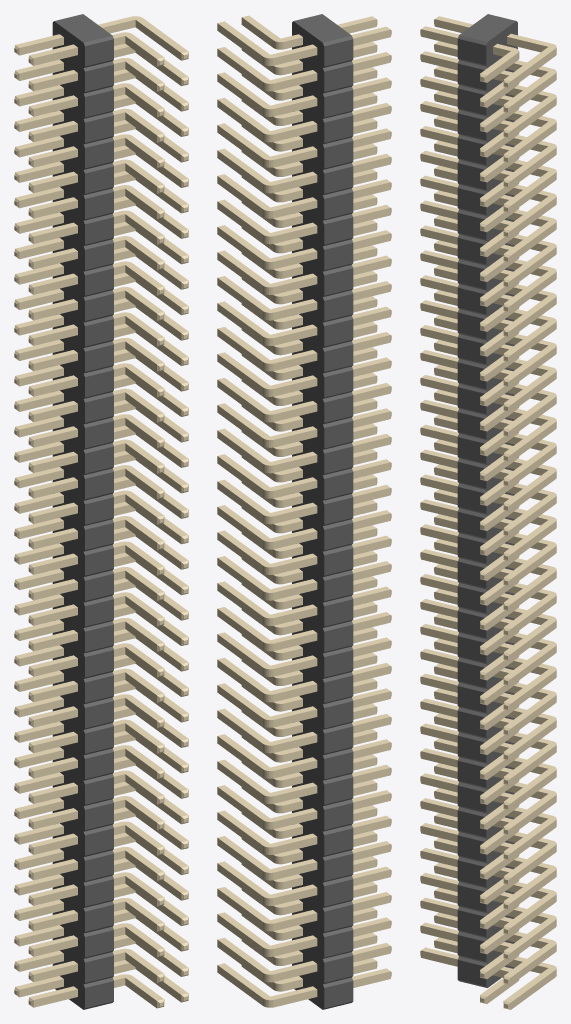
Rendered from PinHeader_2x38_P1.00mm_Horizontal.glb.
The picture shows the model from 3 angles, left to right: view 1: azimuth 30°, elevation 25°; view 2: azimuth 210°, elevation 25°; view 3: azimuth 330°, elevation 25°; orthographic projection. The views are drawn at different scales.
Visible parts, largest first — view 1: Shape_IndexedFaceSet.004, Shape_IndexedFaceSet.001, Shape_IndexedFaceSet.022, Shape_IndexedFaceSet.034, Shape_IndexedFaceSet.058, Shape_IndexedFaceSet.088, Shape_IndexedFaceSet.160, Shape_IndexedFaceSet.190, Shape_IndexedFaceSet.214, Shape_IndexedFaceSet.226, Shape_IndexedFaceSet.016, Shape_IndexedFaceSet.028 (+29 smaller); view 2: Shape_IndexedFaceSet.003, Shape_IndexedFaceSet.001, Shape_IndexedFaceSet.073, Shape_IndexedFaceSet.019, Shape_IndexedFaceSet.043, Shape_IndexedFaceSet.049, Shape_IndexedFaceSet.085, Shape_IndexedFaceSet.097, Shape_IndexedFaceSet.109, Shape_IndexedFaceSet.115, Shape_IndexedFaceSet.139, Shape_IndexedFaceSet.145 (+66 smaller); view 3: Shape_IndexedFaceSet.003, Shape_IndexedFaceSet.001, Shape_IndexedFaceSet.002, Shape_IndexedFaceSet.533, Shape_IndexedFaceSet.058, Shape_IndexedFaceSet.148, Shape_IndexedFaceSet.016, Shape_IndexedFaceSet.028, Shape_IndexedFaceSet.088, Shape_IndexedFaceSet.118, Shape_IndexedFaceSet.172, Shape_IndexedFaceSet.178 (+105 smaller).
Part boxes in pixels (x1=…): Shape_IndexedFaceSet.004: x1=52, y1=21, x2=84, y2=1009; Shape_IndexedFaceSet.001: x1=54, y1=14, x2=112, y2=42; Shape_IndexedFaceSet.022: x1=85, y1=115, x2=113, y2=142; Shape_IndexedFaceSet.034: x1=85, y1=166, x2=113, y2=193; Shape_IndexedFaceSet.058: x1=85, y1=268, x2=113, y2=295; Shape_IndexedFaceSet.088: x1=85, y1=395, x2=113, y2=422; Shape_IndexedFaceSet.160: x1=85, y1=701, x2=113, y2=728; Shape_IndexedFaceSet.190: x1=85, y1=828, x2=113, y2=855; Shape_IndexedFaceSet.214: x1=85, y1=930, x2=113, y2=957; Shape_IndexedFaceSet.226: x1=85, y1=981, x2=113, y2=1008; Shape_IndexedFaceSet.016: x1=85, y1=90, x2=113, y2=117; Shape_IndexedFaceSet.028: x1=85, y1=141, x2=113, y2=168; Shape_IndexedFaceSet.003: x1=292, y1=21, x2=324, y2=1009; Shape_IndexedFaceSet.001: x1=293, y1=14, x2=351, y2=42; Shape_IndexedFaceSet.073: x1=324, y1=319, x2=353, y2=346; Shape_IndexedFaceSet.019: x1=324, y1=90, x2=353, y2=117; Shape_IndexedFaceSet.043: x1=324, y1=192, x2=353, y2=219; Shape_IndexedFaceSet.049: x1=324, y1=217, x2=353, y2=244; Shape_IndexedFaceSet.085: x1=324, y1=370, x2=353, y2=397; Shape_IndexedFaceSet.097: x1=324, y1=421, x2=353, y2=448; Shape_IndexedFaceSet.109: x1=324, y1=472, x2=353, y2=499; Shape_IndexedFaceSet.115: x1=324, y1=497, x2=353, y2=524; Shape_IndexedFaceSet.139: x1=324, y1=599, x2=353, y2=626; Shape_IndexedFaceSet.145: x1=324, y1=625, x2=353, y2=651; Shape_IndexedFaceSet.003: x1=486, y1=21, x2=517, y2=987; Shape_IndexedFaceSet.001: x1=459, y1=14, x2=515, y2=41; Shape_IndexedFaceSet.002: x1=457, y1=39, x2=486, y2=65; Shape_IndexedFaceSet.533: x1=504, y1=33, x2=556, y2=81; Shape_IndexedFaceSet.058: x1=457, y1=263, x2=486, y2=289; Shape_IndexedFaceSet.148: x1=457, y1=636, x2=486, y2=662; Shape_IndexedFaceSet.016: x1=457, y1=88, x2=486, y2=114; Shape_IndexedFaceSet.028: x1=457, y1=138, x2=486, y2=164; Shape_IndexedFaceSet.088: x1=457, y1=387, x2=486, y2=413; Shape_IndexedFaceSet.118: x1=457, y1=512, x2=486, y2=538; Shape_IndexedFaceSet.172: x1=457, y1=736, x2=486, y2=762; Shape_IndexedFaceSet.178: x1=457, y1=761, x2=486, y2=787.
Bounding box in the file's own units: 2.03 × 14.96 × 1.62.
